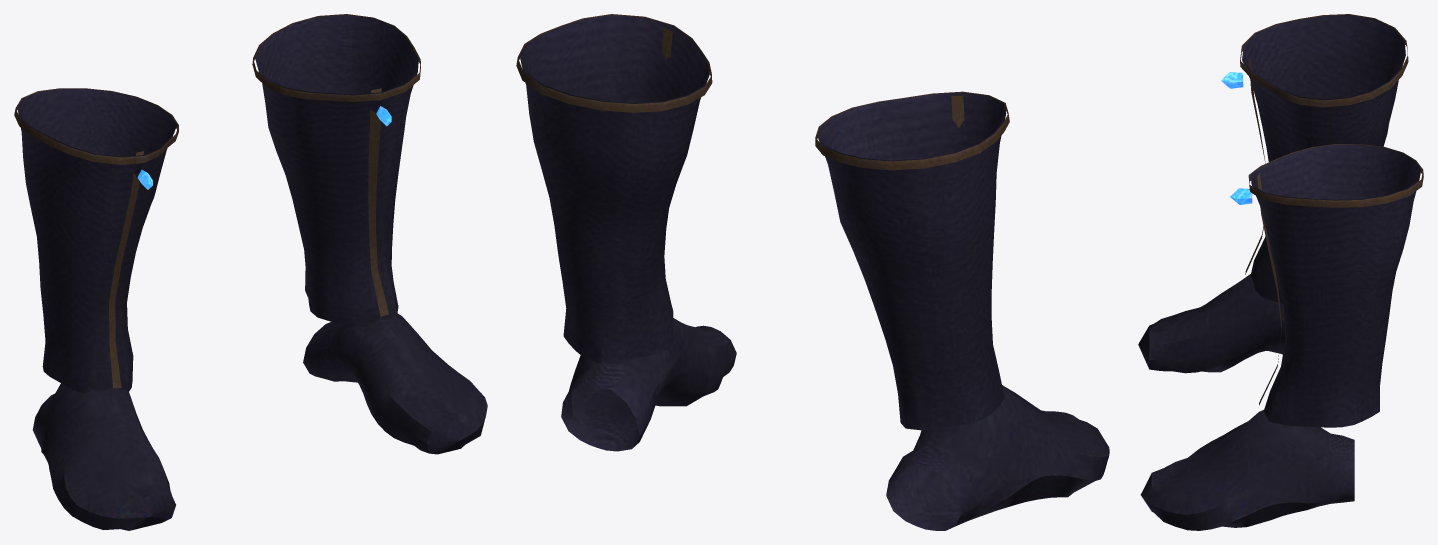
The model's file is Botas_de_Tecido_nivel50.glb.
3 views of the same model, side by side, from view 1: azimuth 30°, elevation 25°; view 2: azimuth 150°, elevation 25°; view 3: azimuth 270°, elevation 25° (orthographic). The views are drawn at different scales.
Visible parts, largest first — view 1: botas_de_tecido_nivel50; view 2: botas_de_tecido_nivel50; view 3: botas_de_tecido_nivel50.
Part boxes in pixels (bbox=[...]): botas_de_tecido_nivel50: bbox=[14, 14, 487, 530]; botas_de_tecido_nivel50: bbox=[516, 14, 1109, 530]; botas_de_tecido_nivel50: bbox=[1138, 14, 1423, 530].
Bounding box in the file's own units: 0.5105 × 0.3972 × 0.3078.
Materials: 1 (1 with a texture image).
